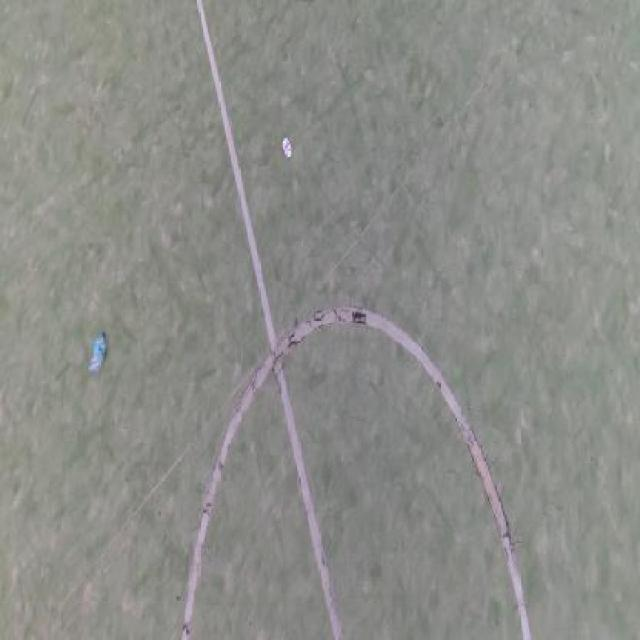Garbage: (87, 331, 107, 374), (282, 136, 292, 159)
